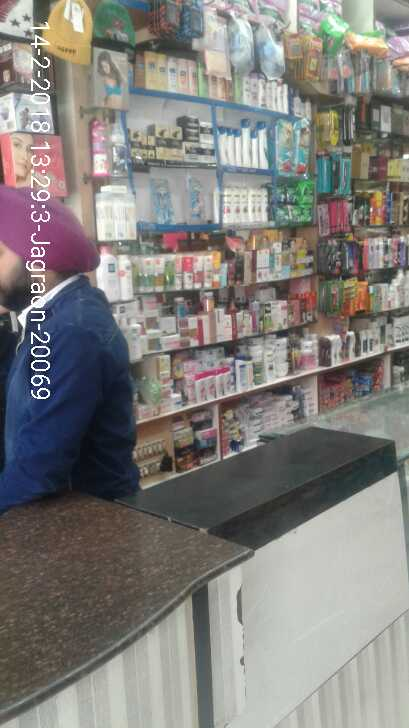venus: (148, 182, 172, 222), (185, 178, 203, 226)
